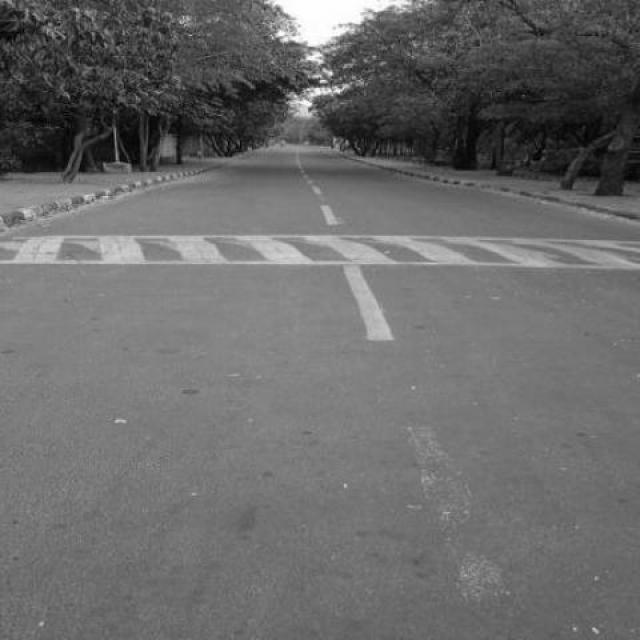Speed Bump: (0, 234, 639, 272)
